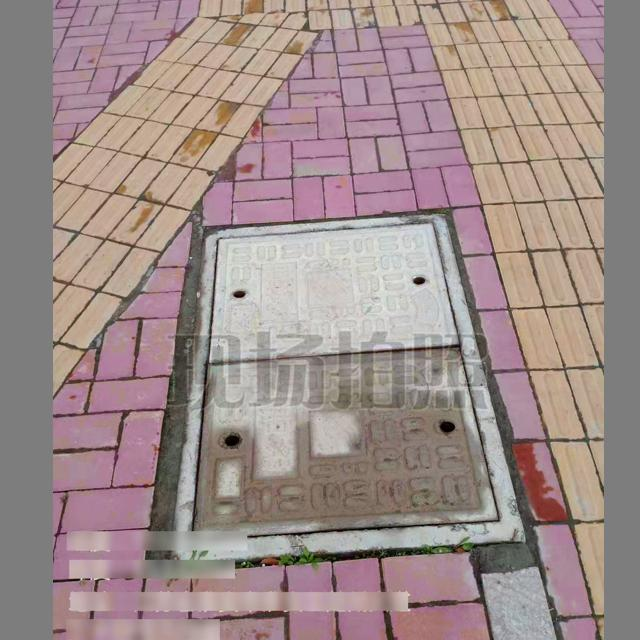good: (196, 227, 482, 535)
